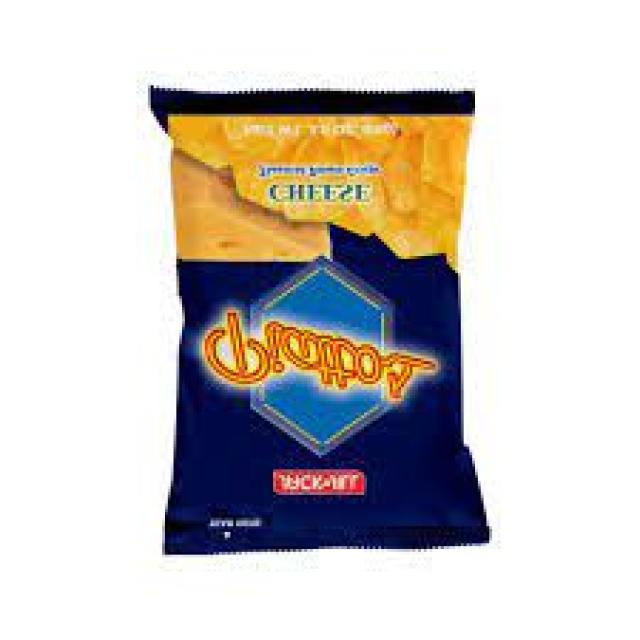junkfood wrapper: (150, 89, 487, 552)
